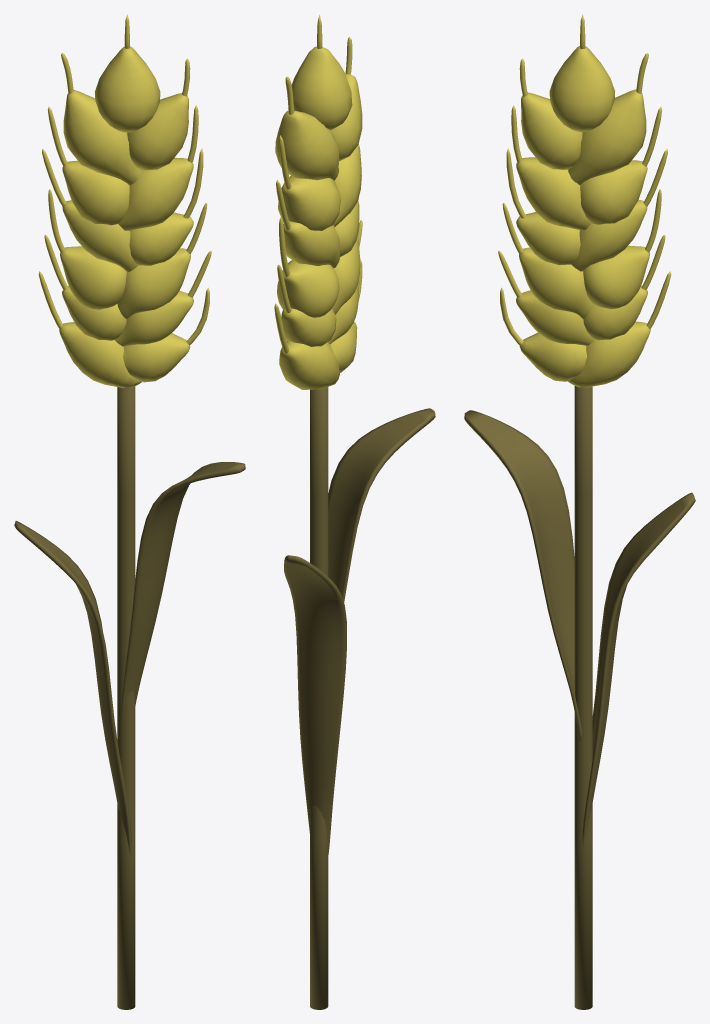
File: weed_01.fbx
The picture shows the model from 3 angles, left to right: view 1: azimuth 90°, elevation 25°; view 2: azimuth 150°, elevation 25°; view 3: azimuth 270°, elevation 25°; orthographic projection.
Visible parts, largest first — view 1: Cube.031; view 2: Cube.031; view 3: Cube.031.
Boxes of the visible parts, x1,y1,x2,y2 form: Cube.031: (14,14,245,1009); Cube.031: (274,14,435,1009); Cube.031: (464,14,695,1009).
Size of the model in its own units: 23.97 by 261 by 55.15.
